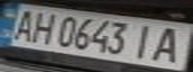0: (51, 14, 78, 48)
3: (106, 19, 133, 56)
4: (90, 18, 112, 54)
6: (72, 16, 96, 52)
A: (148, 25, 190, 64), (6, 7, 42, 42)
H: (24, 9, 60, 45)
I: (127, 21, 160, 60)
